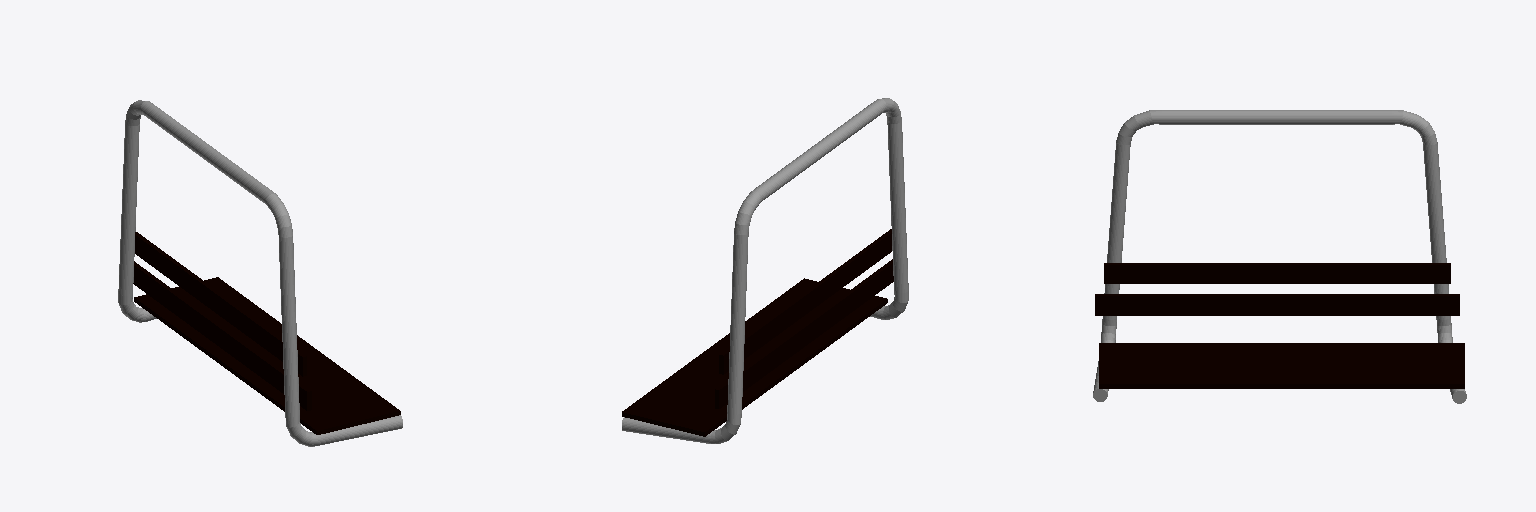
The model's file is chairLift.obj.
3 views of the same model, side by side, from view 1: azimuth 30°, elevation 25°; view 2: azimuth 150°, elevation 25°; view 3: azimuth 270°, elevation 25° (orthographic).
Visible parts, largest first — view 1: Cylinder, Cube, Cube.001, Cube.002; view 2: Cylinder, Cube, Cube.001, Cube.002; view 3: Cube, Cylinder, Cube.001, Cube.002.
Boxes of the visible parts, x1,y1,x2,y2 form: Cylinder: [118, 100, 402, 446]; Cube: [134, 277, 400, 434]; Cube.001: [133, 261, 311, 410]; Cube.002: [135, 232, 306, 376]; Cylinder: [622, 98, 908, 443]; Cube: [622, 278, 887, 436]; Cube.001: [715, 259, 893, 408]; Cube.002: [719, 229, 891, 374]; Cube: [1099, 343, 1464, 388]; Cylinder: [1093, 110, 1466, 403]; Cube.001: [1095, 294, 1459, 315]; Cube.002: [1104, 263, 1450, 283].
Size of the model in its own units: 2.63 by 5.58 by 7.76.